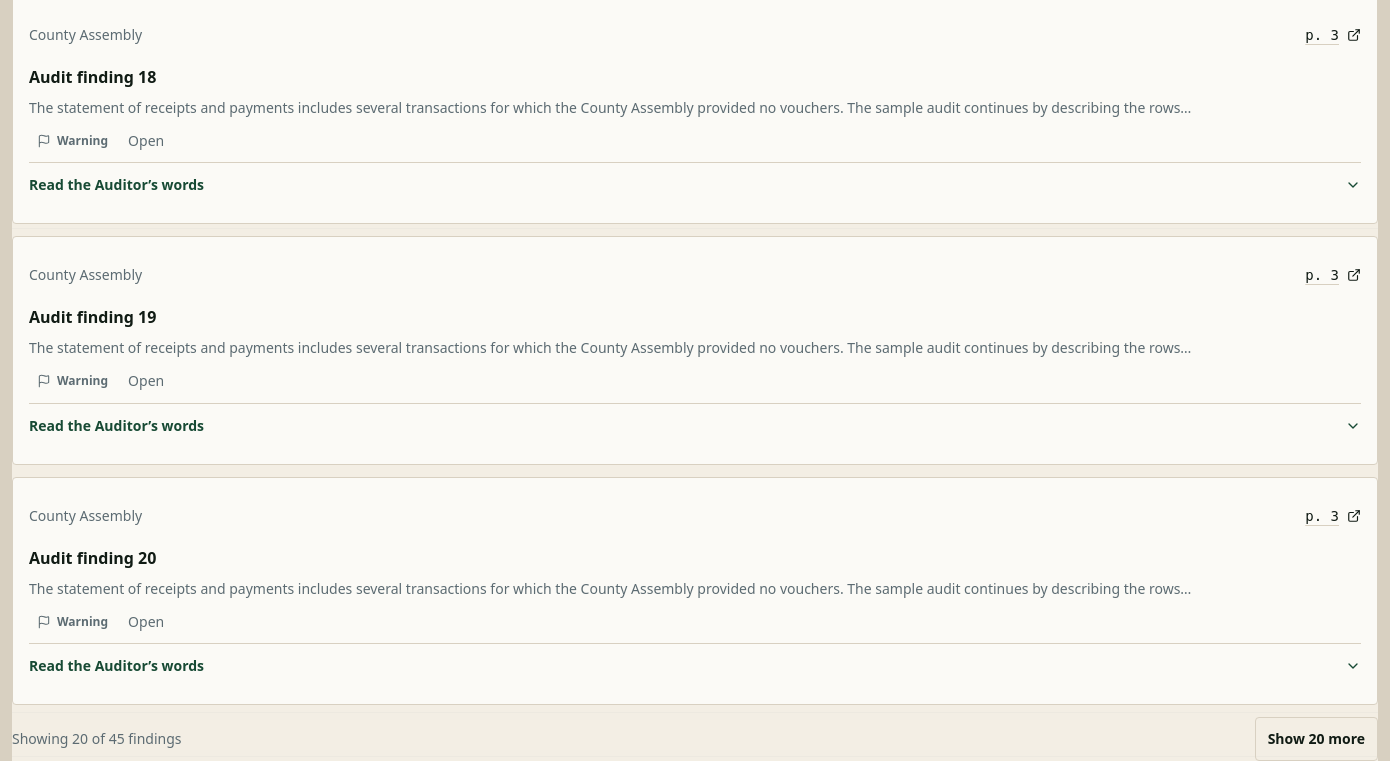
opens all 45 findings in batches with a live count and focus on the first new result
This screenshot has width=1390, height=761.
(page scrolled)
Expected: the message reads "Showing 20 of 45 findings", x1=12 y1=729 x2=182 y2=748
Click the button "Show 20 more". click: (1316, 739)
box: x1=1255 y1=717 x2=1378 y2=760
(page scrolled)
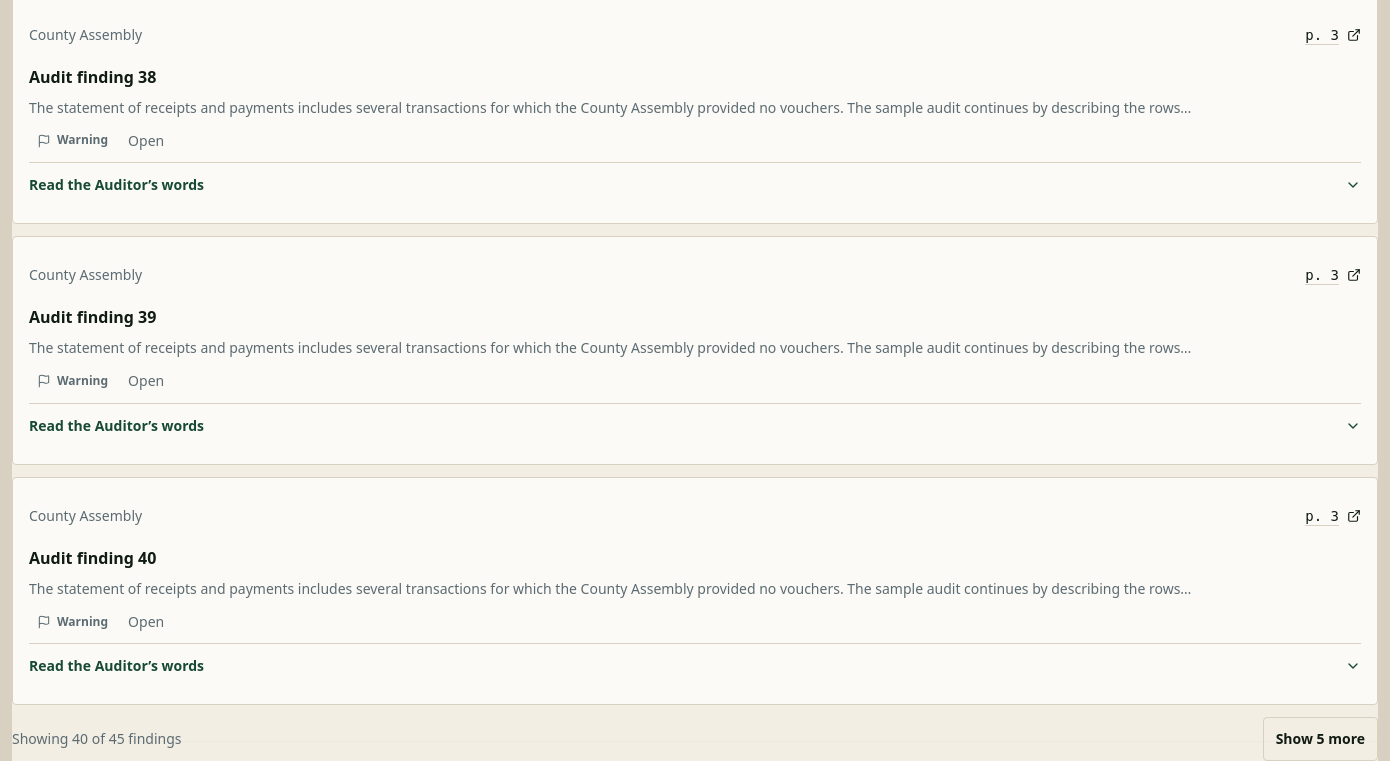
Expected: the message reads "Showing 40 of 45 findings", x1=12 y1=729 x2=182 y2=748
Click the button "Show 5 more". click: (1320, 739)
box: x1=1263 y1=717 x2=1378 y2=760
(page scrolled)
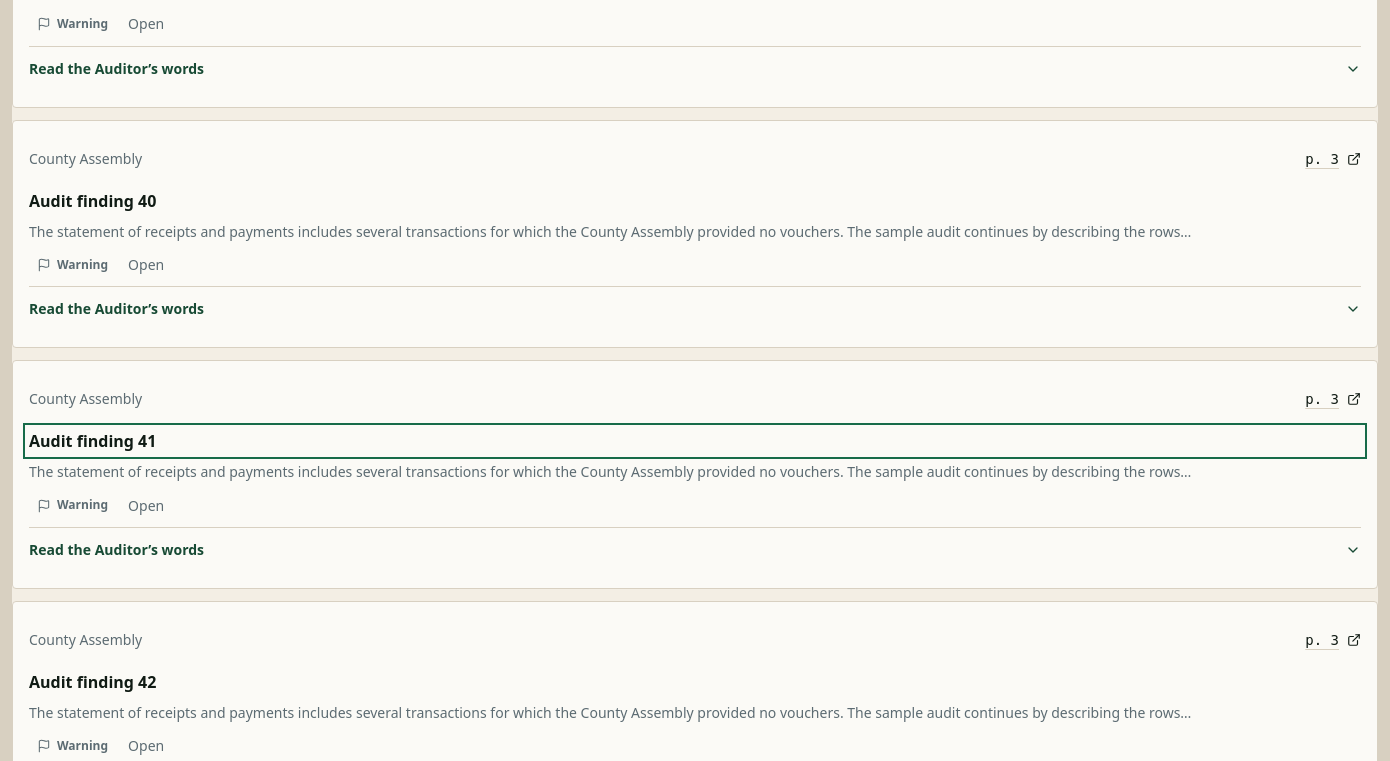
Expected: the button "Show 5 more" is gone
